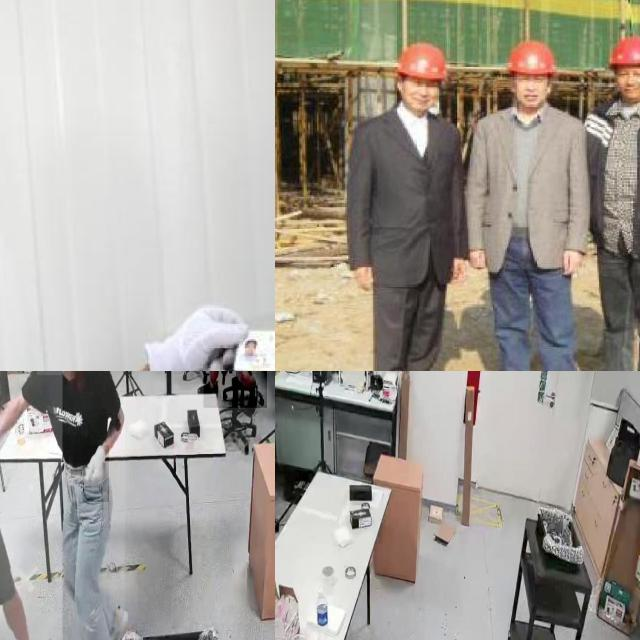hand_glove: (156, 303, 245, 371), (83, 445, 109, 502)
hand_noglove: (346, 259, 380, 291), (557, 245, 588, 280), (448, 253, 471, 280), (467, 246, 487, 273)
head_helmet: (392, 39, 451, 83), (504, 36, 558, 81), (606, 32, 640, 69)
person: (0, 0, 133, 371), (458, 34, 591, 371), (346, 38, 467, 371), (0, 371, 126, 640), (574, 30, 640, 371), (0, 371, 63, 640), (203, 371, 267, 408)
